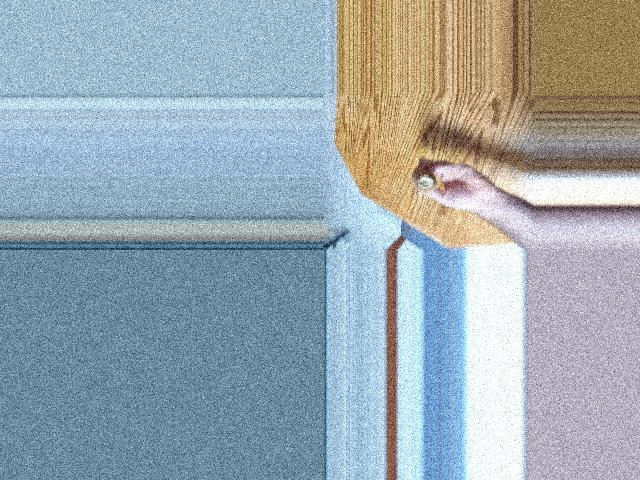sweet_potato: (407, 172, 435, 195)
